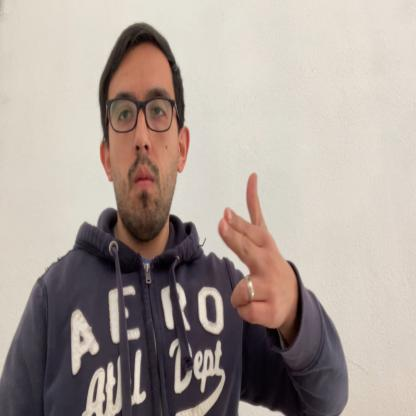H: (216, 169, 294, 330)
